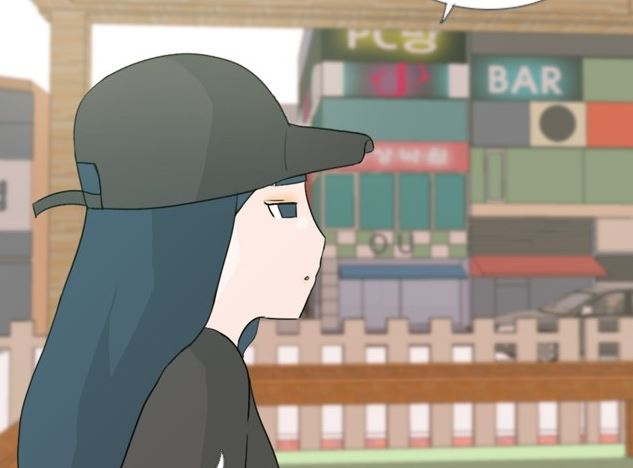hat: (59, 50, 374, 207)
